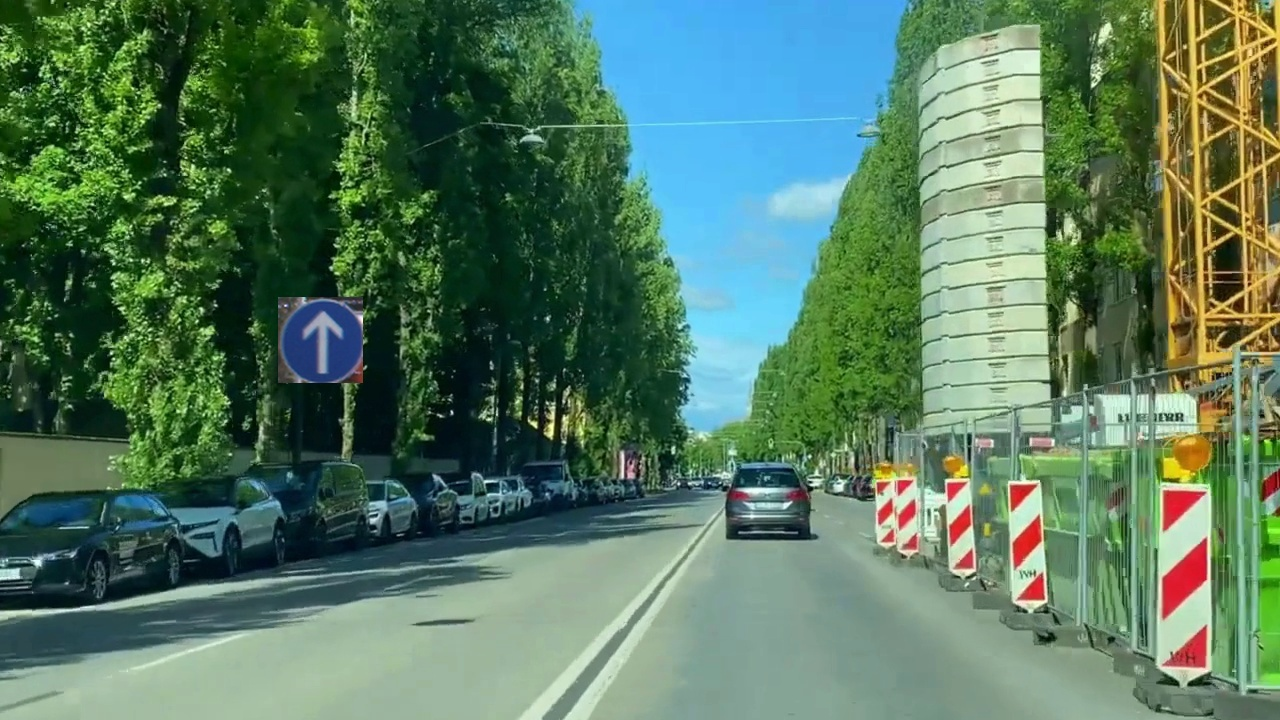Ahead only: (278, 297, 363, 383)
